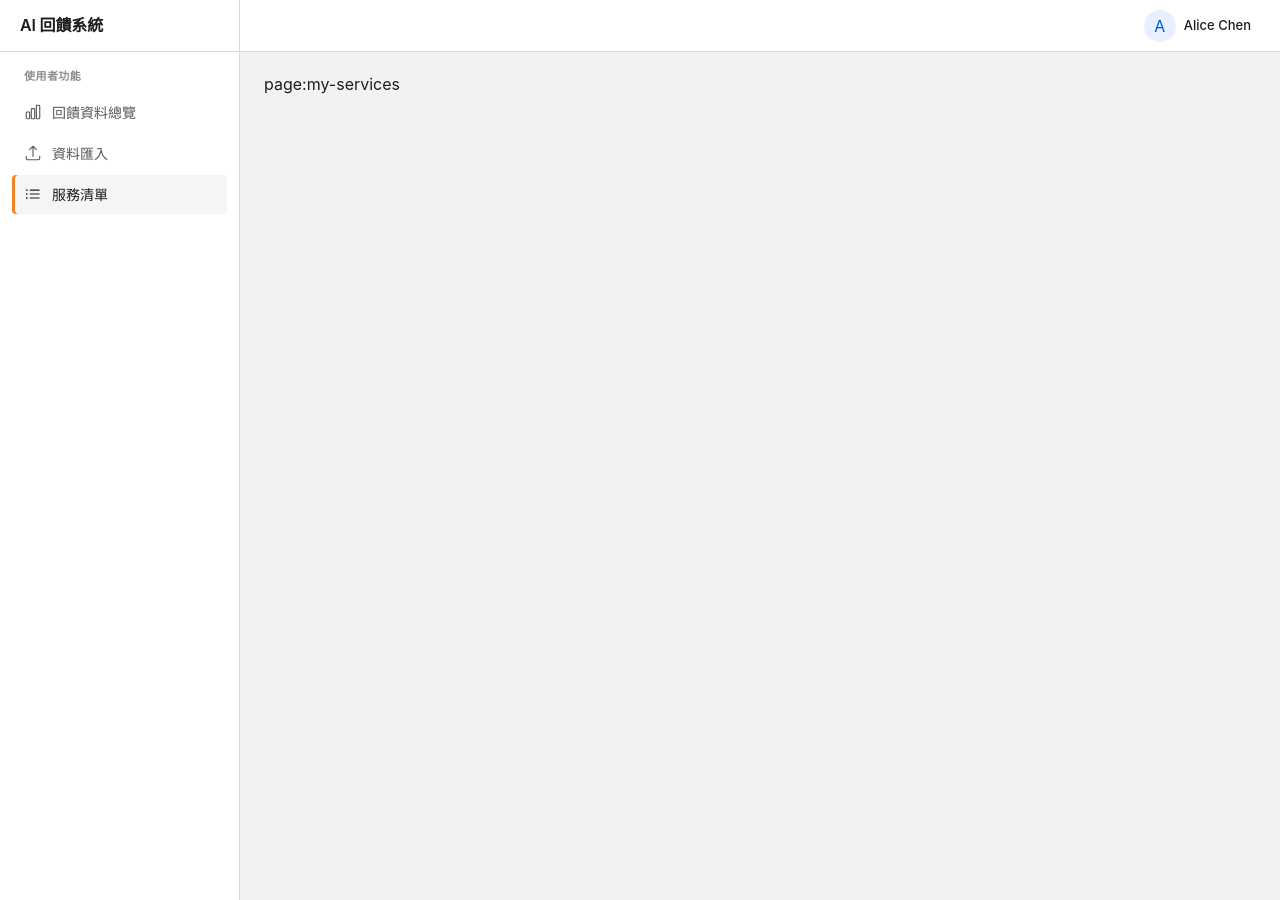
Test: Layout account menu › shows the current user name, and email in the opened menu
The image size is (1280, 900).
Click the button "A Alice Chen" at (1199,26), box [1139,4,1260,46]
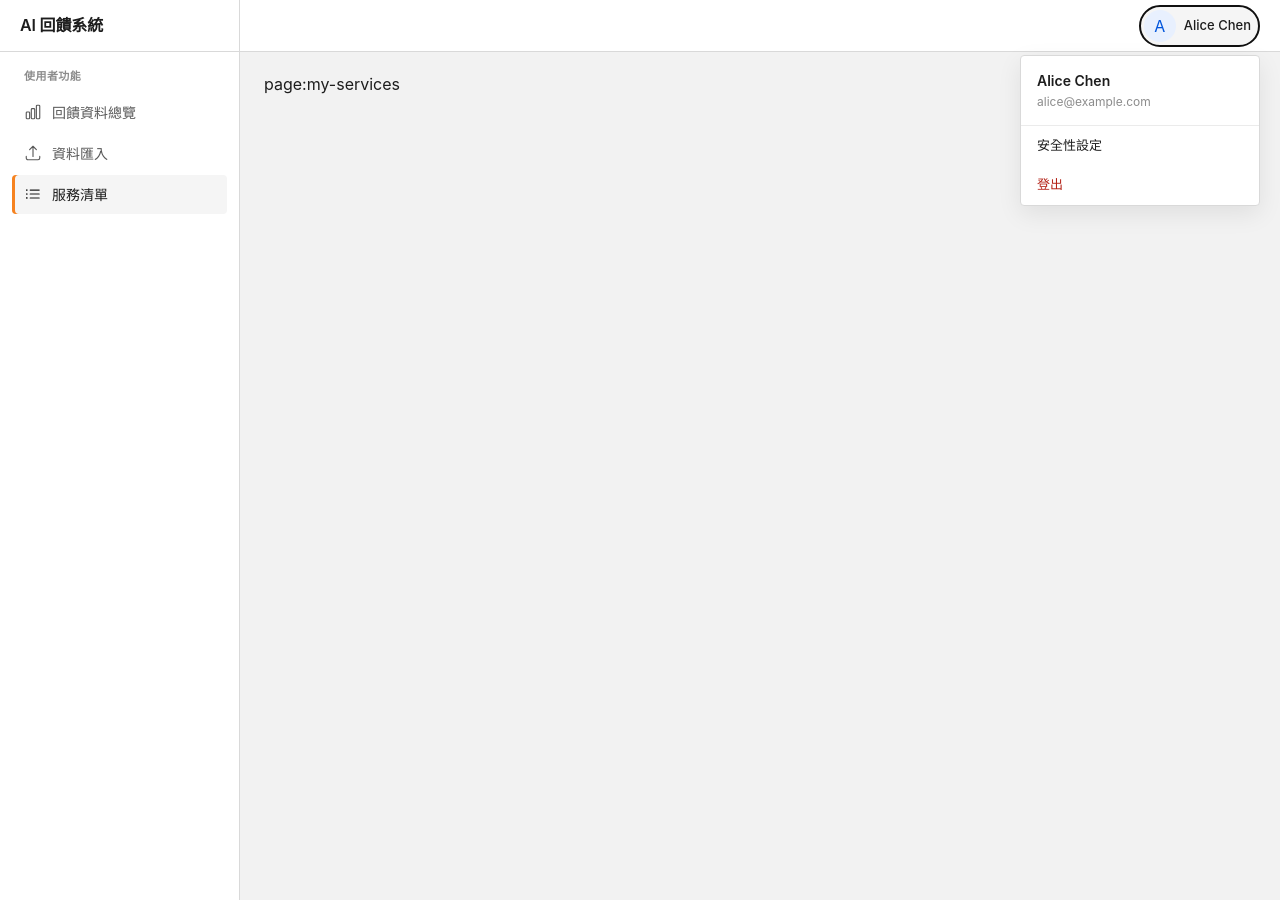
Expected: the 2nd text "Alice Chen" is shown, [1037,72,1110,88]
Expected: the text "alice@example.com" is shown, [1037,94,1151,108]
Expected: the button "A Alice Chen" is expanded, [1139,4,1260,46]
